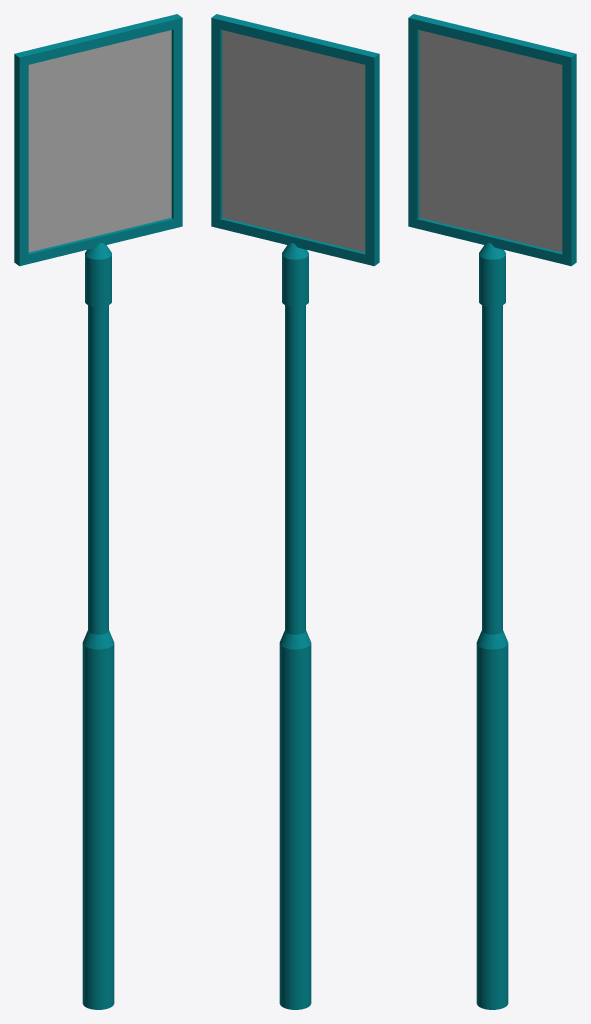
Rendered from nl_bus_sign.obj.
3 views of the same model, side by side, from view 1: azimuth 30°, elevation 25°; view 2: azimuth 150°, elevation 25°; view 3: azimuth 330°, elevation 25° (orthographic).
Visible parts, largest first — view 1: cuboid, cylinder, cone; view 2: cuboid, cylinder, cone; view 3: cuboid, cylinder, cone.
Boxes of the visible parts, x1,y1,x2,y2 form: cuboid: (14,14,182,266); cylinder: (82,255,114,1009); cone: (82,235,114,649); cuboid: (211,14,379,266); cylinder: (279,255,311,1009); cone: (279,235,311,649); cuboid: (408,14,576,266); cylinder: (476,255,508,1009); cone: (476,235,508,649).
Size of the model in its own units: 0.5625 by 3.19 by 0.0938.
Materials: 1 (1 with a texture image).
